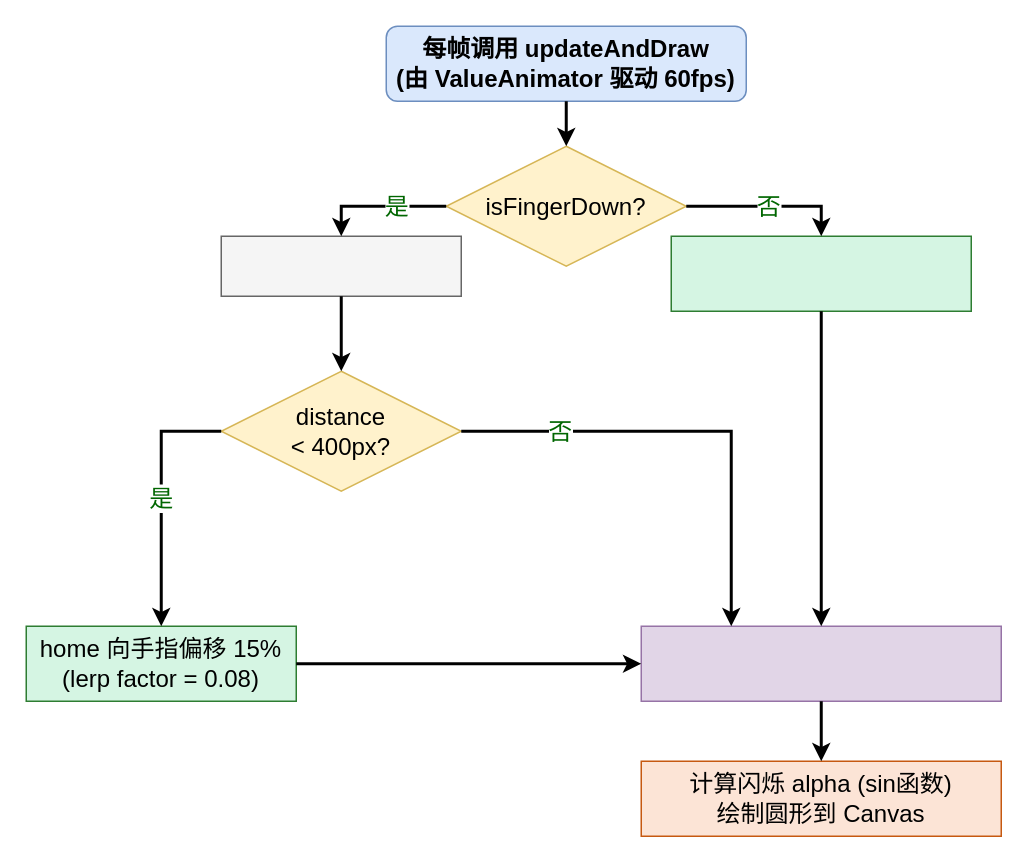
Image size: 1028x863. Some labels were removed from this diagram. The shapes that lost their labels are listed below. From the top down, each one's centre as x and y in pixels, then its label:
At point 340,265: "计算到手指的距离".
At point 820,273: "Lerp 归位到 originalHome (lerp factor = 0.02)".
At point 820,663: "bgStar.x = lerp(x, homeX, 0.02) bgStar.y = lerp(y, homeY, 0.02)".
